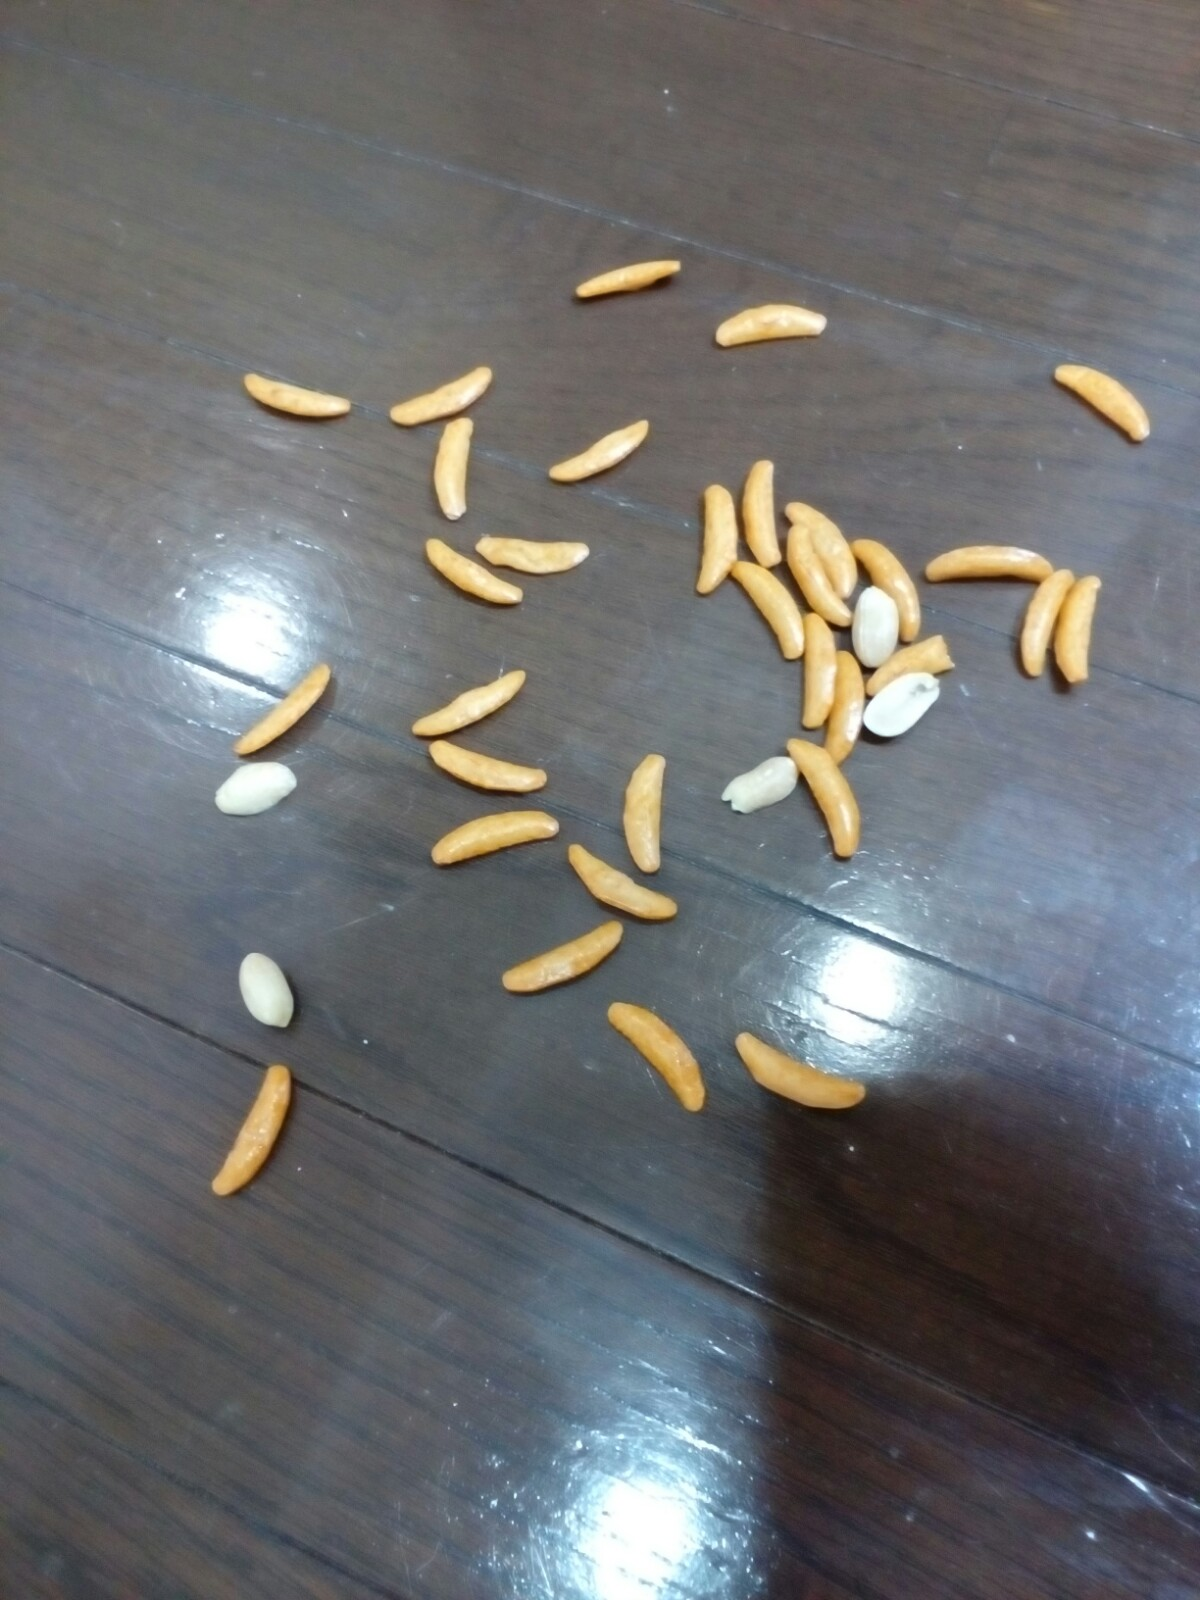peanut: (856, 661, 954, 745), (722, 746, 814, 823), (231, 944, 303, 1041), (205, 757, 303, 819), (841, 576, 903, 671)
